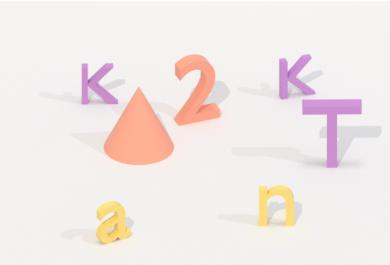2: (171, 49, 225, 130)
K: (78, 59, 121, 108), (275, 50, 317, 100)
T: (300, 94, 364, 172)
a: (102, 86, 176, 170), (92, 199, 135, 249)
n: (255, 179, 299, 231)
